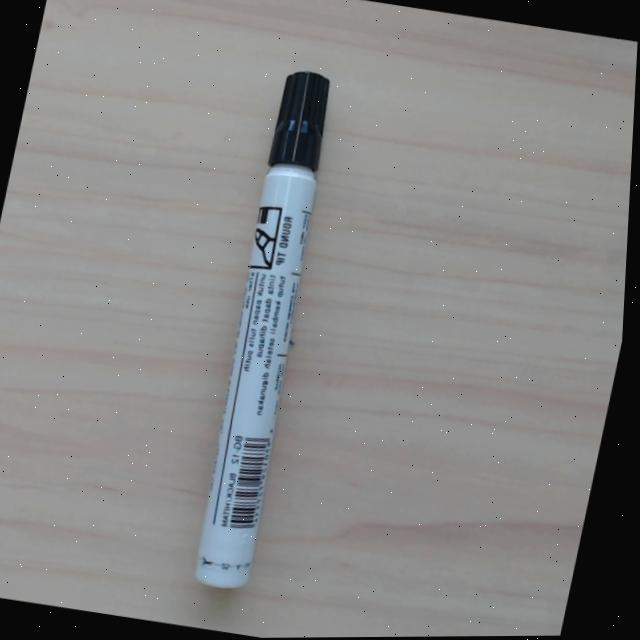Marker-Pen: (188, 68, 342, 592)
